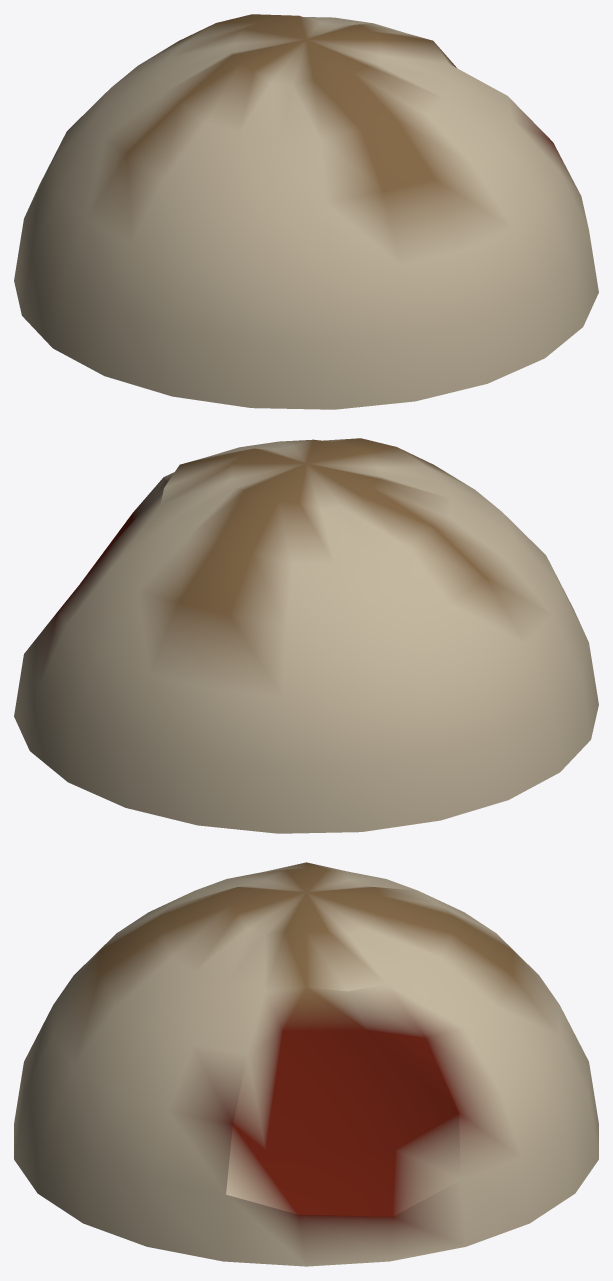
File: dimsum-bao-s1.glb
3 views of the same model, one above another, from view 1: azimuth 30°, elevation 25°; view 2: azimuth 150°, elevation 25°; view 3: azimuth 270°, elevation 25° (orthographic).
Parts seen in each view (by area): view 1: food__food; view 2: food__food; view 3: food__food.
Part boxes in pixels (x1=…): food__food: x1=14, y1=14, x2=598, y2=409; food__food: x1=14, y1=438, x2=598, y2=833; food__food: x1=14, y1=862, x2=598, y2=1266.
Size of the model in its own units: 0.064 by 0.0298 by 0.0633.
